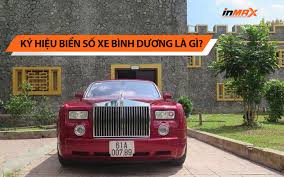Bien-so: (108, 141, 134, 157)
